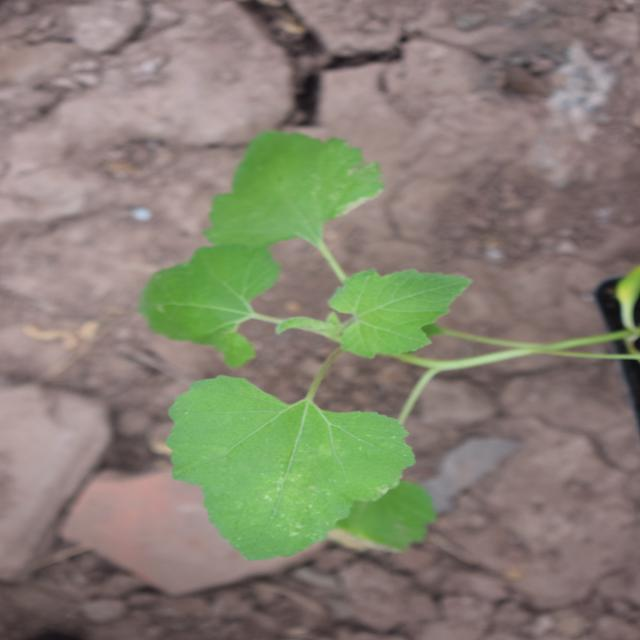cocklebur: (77, 151, 532, 475)
